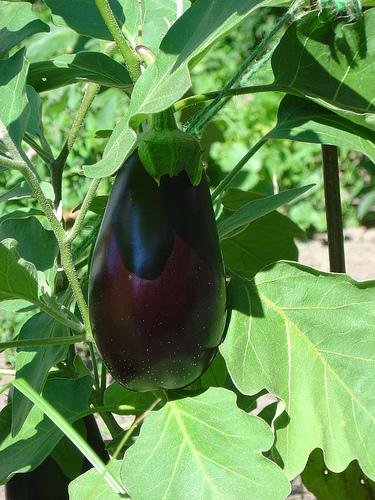eggplant: (85, 96, 234, 393)
